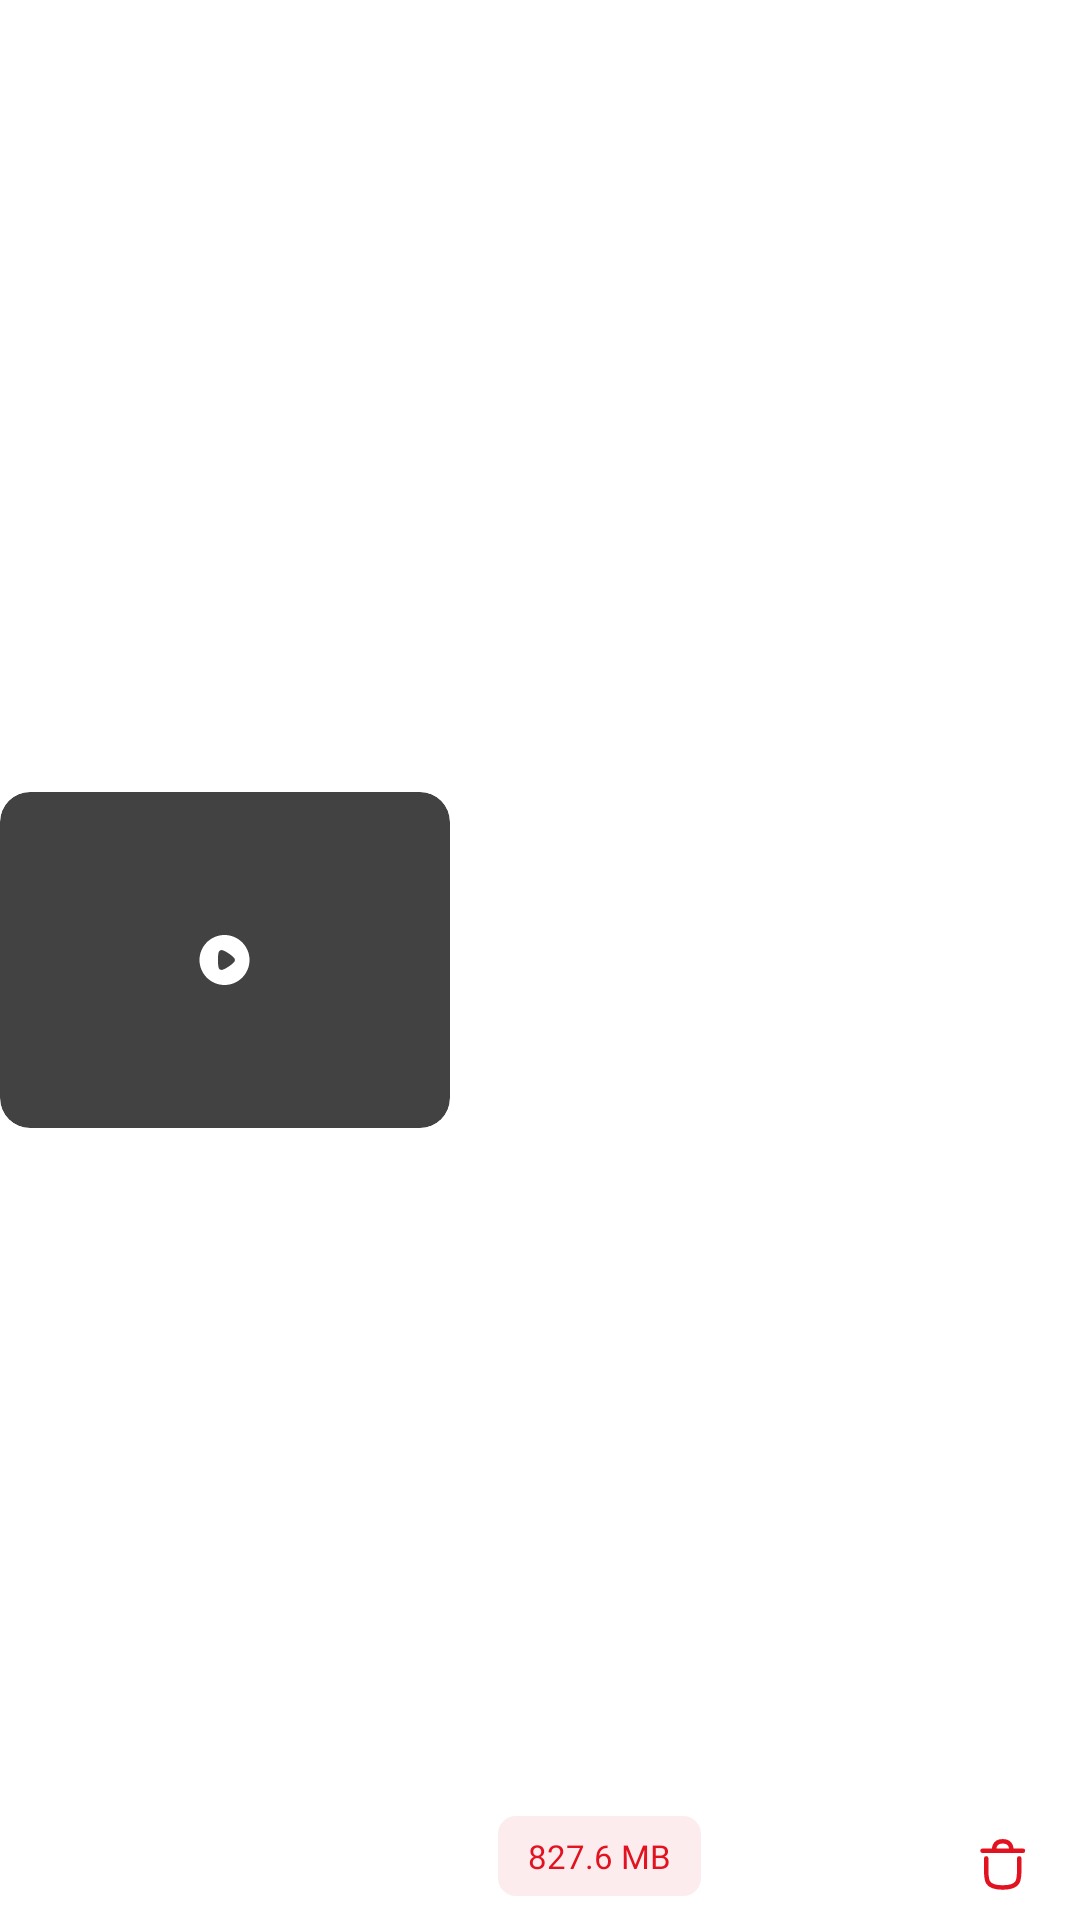

Named icons in this screenshot (1080×1920) and their bounding boxes, (left=x1, top=y1, right=x2, bottom=y2):
delete: (left=980, top=1839, right=1025, bottom=1890)
play: (left=199, top=935, right=250, bottom=985)
